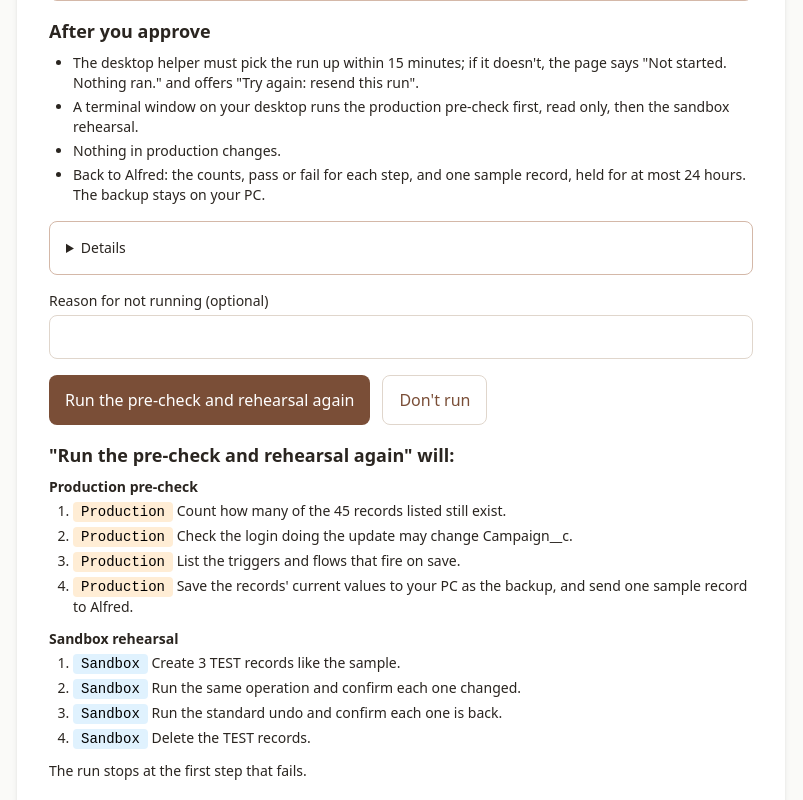
Test case: the red bar and the Approve button always appear together › not-started-expired, desktop ready, then approved
(page scrolled)
Click the button "Run the pre-check and rehearsal again".
click(210, 400)  # box [49,375,370,425]
(page scrolled)
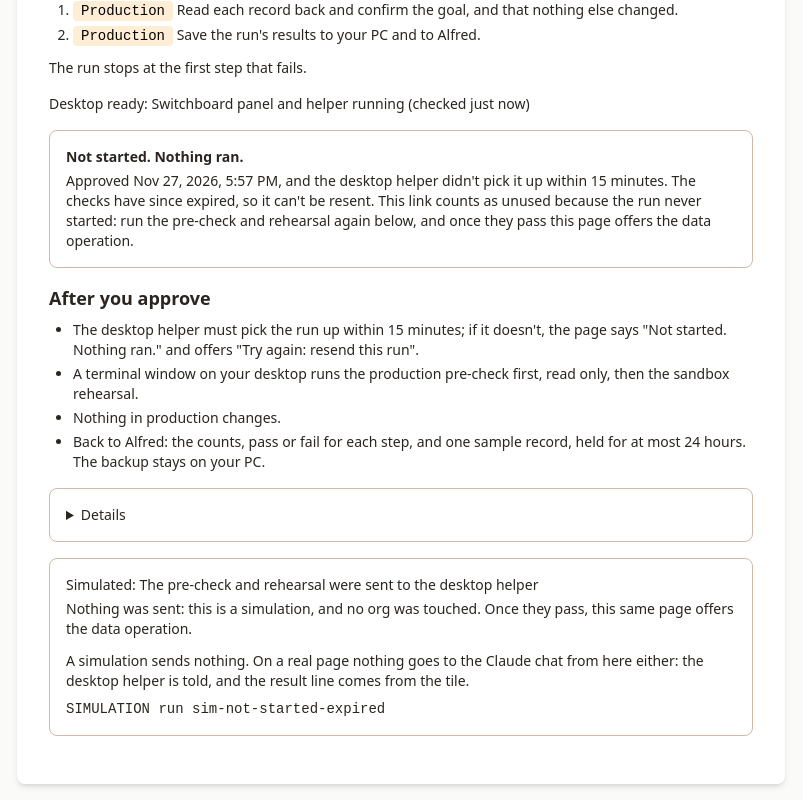
Expected: the element with test id "run-sent" is shown, [49,558,753,736]
